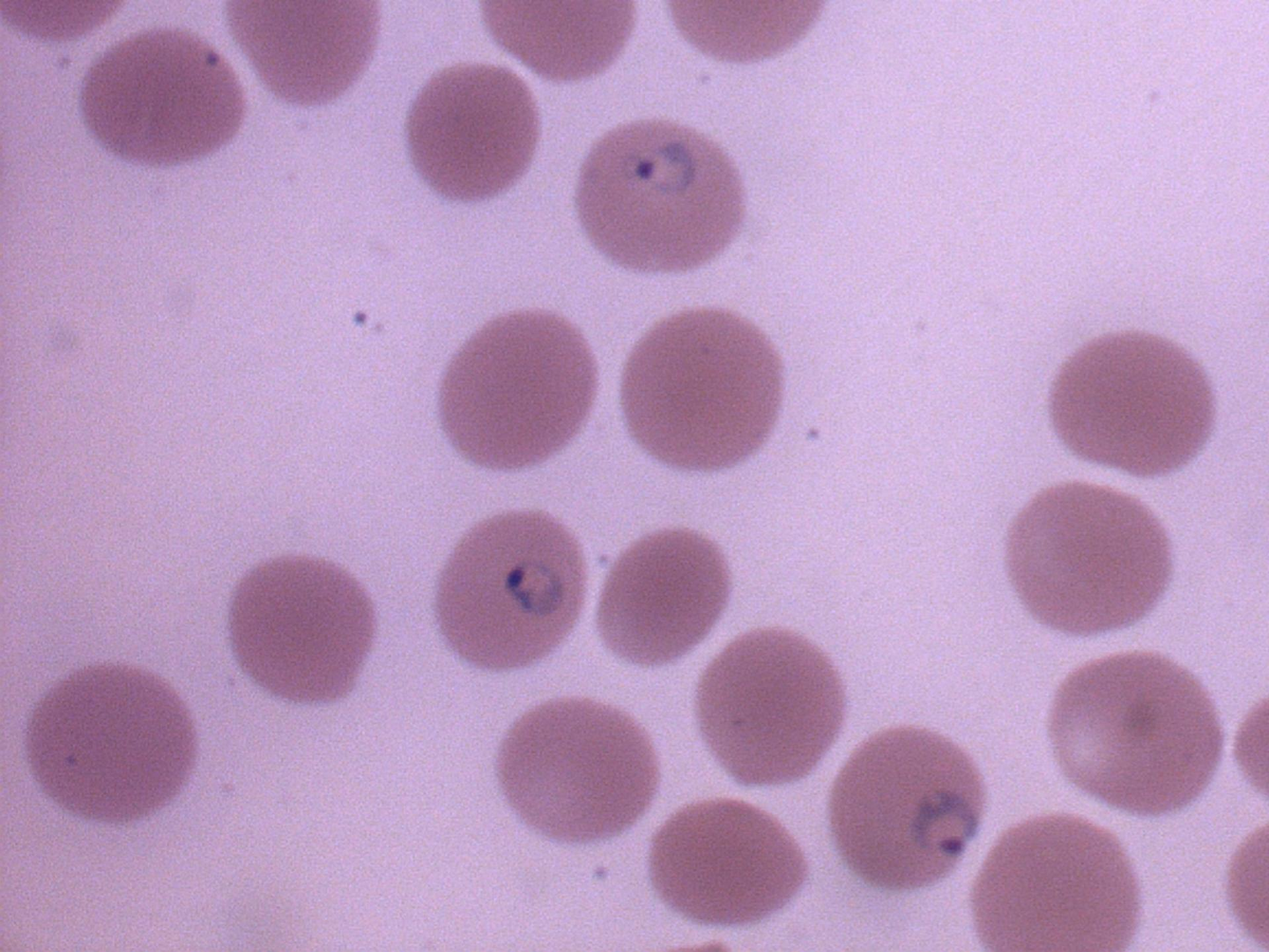Infected: (826, 716, 993, 896), (577, 109, 743, 276), (436, 509, 590, 674)
Uninfected: (615, 307, 781, 475), (1049, 655, 1218, 815), (26, 666, 194, 823), (434, 311, 599, 469), (1042, 327, 1213, 478), (491, 693, 664, 840), (1003, 483, 1171, 629), (697, 626, 852, 783), (972, 813, 1142, 952), (81, 31, 249, 168), (652, 791, 808, 927), (225, 556, 367, 705), (408, 60, 545, 201), (219, 2, 383, 113), (601, 531, 721, 663)
